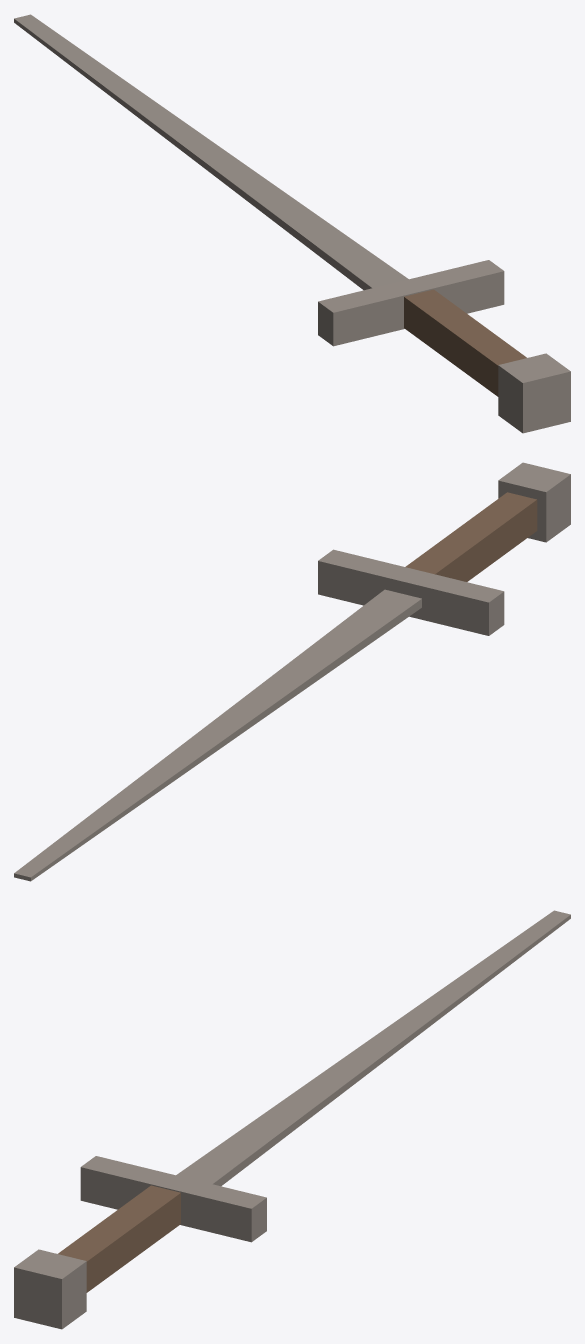
The model's file is sword_t1.glb.
3 views of the same model, one above another, from view 1: azimuth 30°, elevation 25°; view 2: azimuth 150°, elevation 25°; view 3: azimuth 330°, elevation 25° (orthographic).
Visible parts, largest first — view 1: blade; view 2: blade; view 3: blade.
Boxes of the visible parts, box(x1,y1,x2,y2) form: blade: box(14, 14, 570, 433); blade: box(14, 462, 570, 881); blade: box(14, 910, 570, 1329).
Size of the model in its own units: 0.16 by 0.045 by 0.85.
